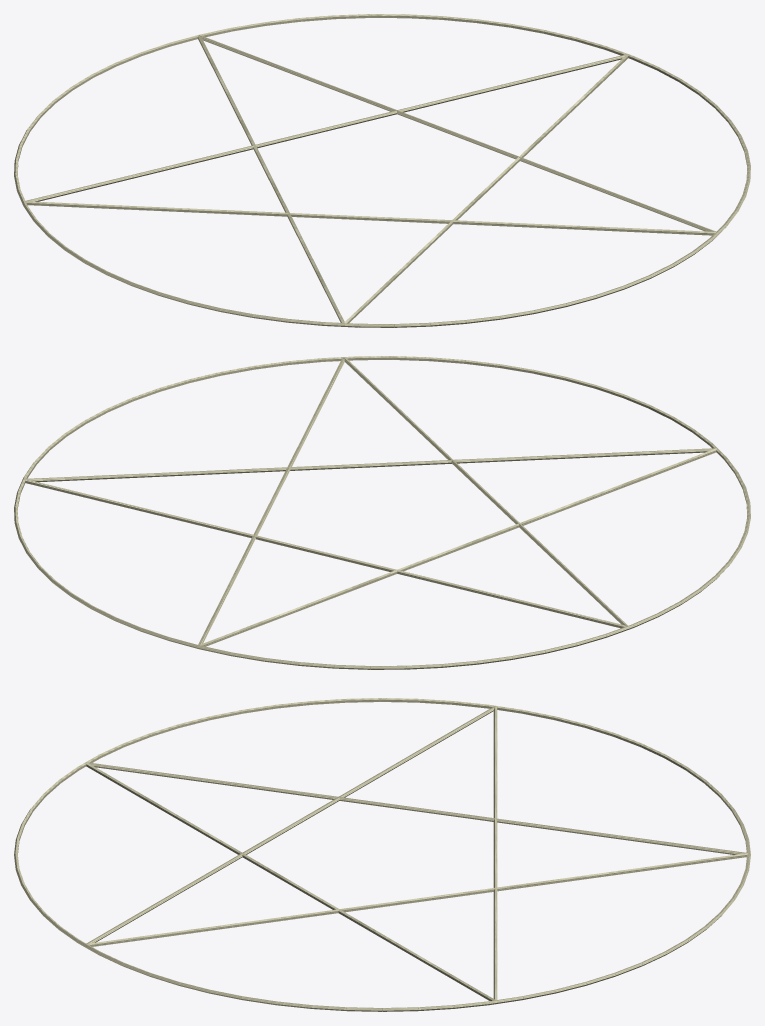
The model's file is blender_chalk_sigil_kit_1_deployed.glb.
The picture shows the model from 3 angles, top to bottom: view 1: azimuth 30°, elevation 25°; view 2: azimuth 150°, elevation 25°; view 3: azimuth 270°, elevation 25°; orthographic projection.
Visible parts, largest first — view 1: blender_chalk_sigil_kit_1_deployed; view 2: blender_chalk_sigil_kit_1_deployed; view 3: blender_chalk_sigil_kit_1_deployed.
Part boxes in pixels (x1,y1,x2,y2): blender_chalk_sigil_kit_1_deployed: (14,14,750,327); blender_chalk_sigil_kit_1_deployed: (14,356,750,669); blender_chalk_sigil_kit_1_deployed: (14,698,750,1011).
Bounding box in the file's own units: 0.704 × 0.0038 × 0.704.
1 material, 1 textured.
